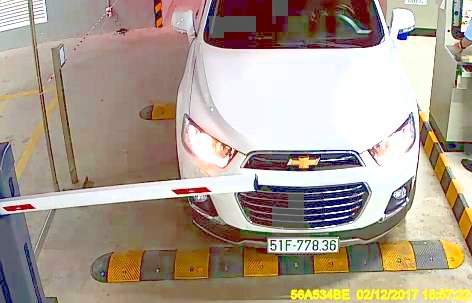plate: (263, 230, 344, 255)
